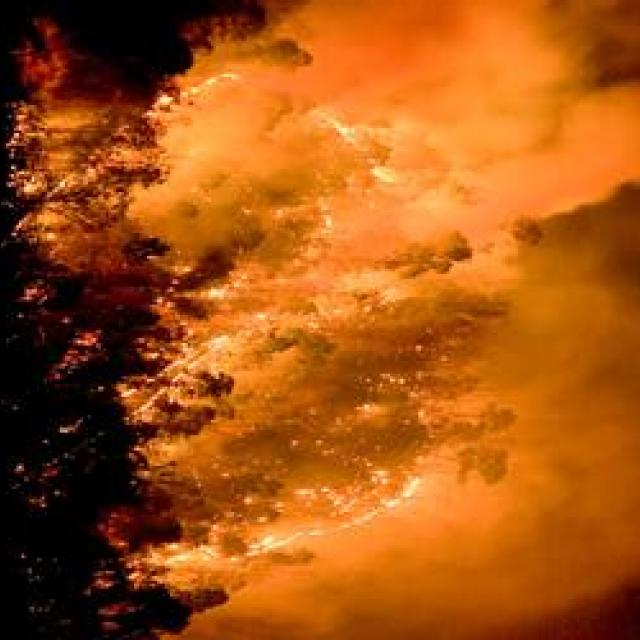fire: (186, 111, 258, 158), (161, 544, 214, 568), (254, 530, 292, 556), (330, 117, 360, 145), (367, 160, 397, 188), (208, 334, 232, 356), (404, 476, 418, 504), (206, 288, 227, 304)
smoke: (536, 412, 640, 594), (363, 525, 528, 629), (479, 67, 579, 226), (442, 0, 622, 86), (535, 264, 640, 376), (324, 0, 454, 83), (398, 100, 498, 204), (561, 75, 640, 195), (250, 590, 348, 632)
